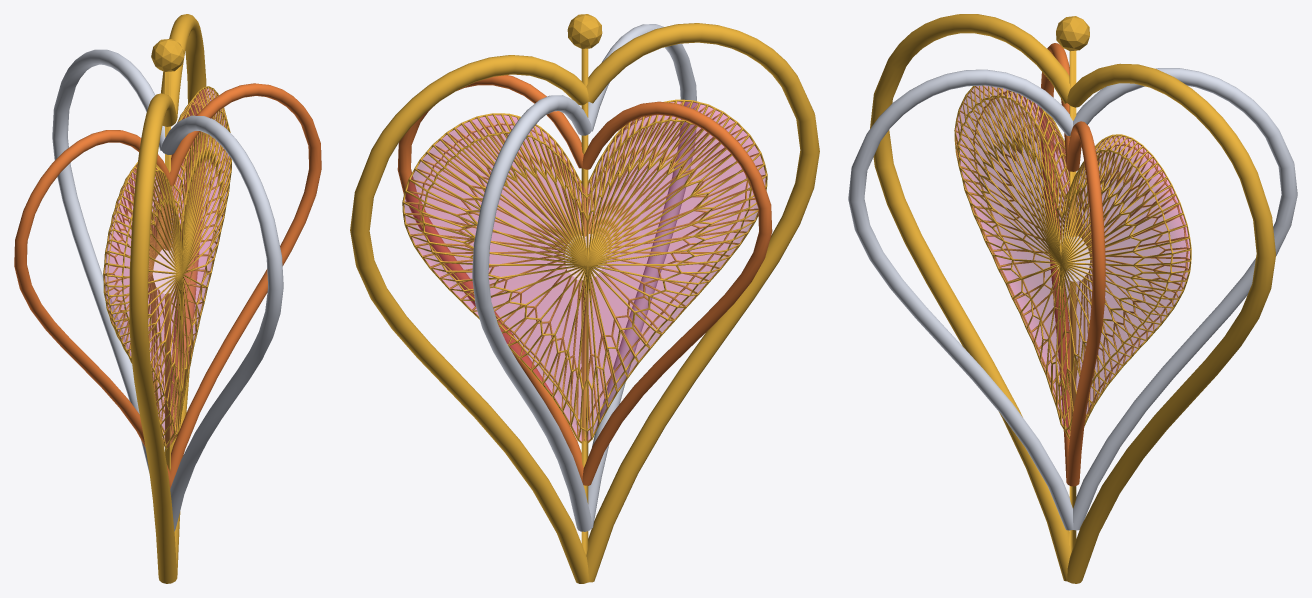
File: heart_ring.glb
3 renders of one model, left to right at view 1: azimuth 30°, elevation 25°; view 2: azimuth 150°, elevation 25°; view 3: azimuth 270°, elevation 25°, orthographic. The views are drawn at different scales.
Visible parts, largest first — view 1: HeartGlass_1, HeartRing2.001_9, HeartRing3.001_10, HeartRing1.001_8, CylRod_0, Icosphere.Decor_6, Icosphere.Light_7; view 2: HeartGlass_1, HeartRing3.001_10, HeartRing2.001_9, HeartRing1.001_8, CylRod_0, Icosphere.Decor_6; view 3: HeartGlass_1, HeartRing3.001_10, HeartRing2.001_9, HeartRing1.001_8, CylRod_0, Icosphere.Decor_6.
Part boxes in pixels (x1=…): HeartGlass_1: x1=103, y1=86, x2=231, y2=449; HeartRing2.001_9: x1=52, y1=49, x2=283, y2=531; HeartRing3.001_10: x1=129, y1=14, x2=206, y2=583; HeartRing1.001_8: x1=14, y1=83, x2=321, y2=488; CylRod_0: x1=165, y1=71, x2=170, y2=471; Icosphere.Decor_6: x1=151, y1=39, x2=184, y2=71; Icosphere.Light_7: x1=152, y1=247, x2=175, y2=294; HeartGlass_1: x1=402, y1=99, x2=767, y2=443; HeartRing3.001_10: x1=350, y1=23, x2=819, y2=583; HeartRing2.001_9: x1=472, y1=24, x2=696, y2=531; HeartRing1.001_8: x1=397, y1=75, x2=772, y2=485; CylRod_0: x1=581, y1=48, x2=588, y2=555; Icosphere.Decor_6: x1=567, y1=14, x2=602, y2=48; HeartGlass_1: x1=954, y1=85, x2=1191, y2=439; HeartRing3.001_10: x1=870, y1=14, x2=1275, y2=583; HeartRing2.001_9: x1=848, y1=68, x2=1297, y2=530; HeartRing1.001_8: x1=1040, y1=43, x2=1105, y2=486; CylRod_0: x1=1069, y1=50, x2=1076, y2=554; Icosphere.Decor_6: x1=1056, y1=16, x2=1089, y2=51.
Size of the model in its own units: 1.97 by 3.07 by 2.22.
